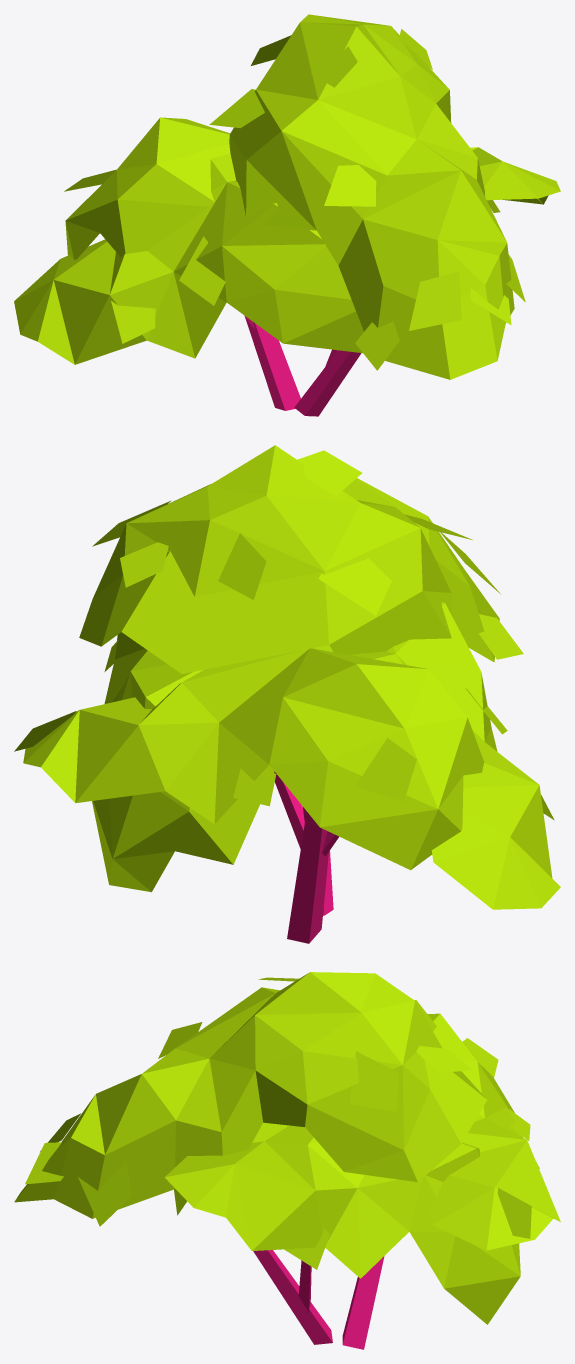
Rendered from SM_Bush_Shrub_B.fbx.
3 renders of one model, top to bottom at view 1: azimuth 30°, elevation 25°; view 2: azimuth 150°, elevation 25°; view 3: azimuth 270°, elevation 25°, orthographic. The views are drawn at different scales.
Parts seen in each view (by area): view 1: SM_Bush_Shrub_B; view 2: SM_Bush_Shrub_B; view 3: SM_Bush_Shrub_B.
Boxes of the visible parts, x1,y1,x2,y2 form: SM_Bush_Shrub_B: [14, 14, 560, 416]; SM_Bush_Shrub_B: [14, 445, 560, 943]; SM_Bush_Shrub_B: [14, 972, 560, 1349].
Size of the model in its own units: 2.35 by 1.99 by 2.49.
